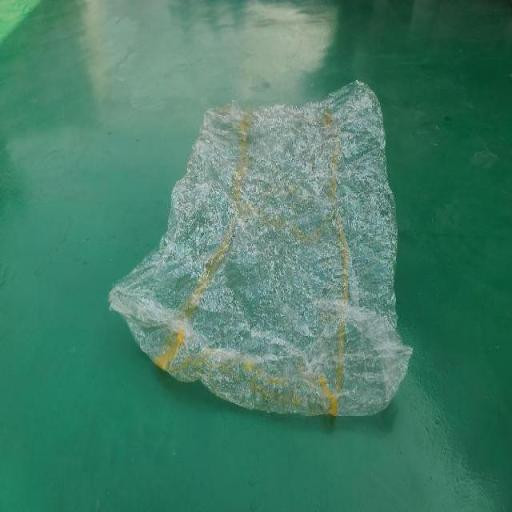plastic-bag: (106, 82, 416, 420)
